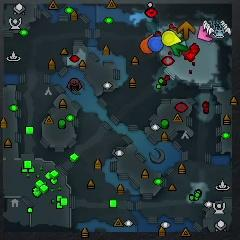p1: (149, 34, 164, 53)
p4: (163, 30, 181, 45)
p5: (140, 34, 155, 54)
x1: (198, 24, 211, 43)
x4: (171, 42, 189, 55)
x5: (177, 21, 195, 40)
